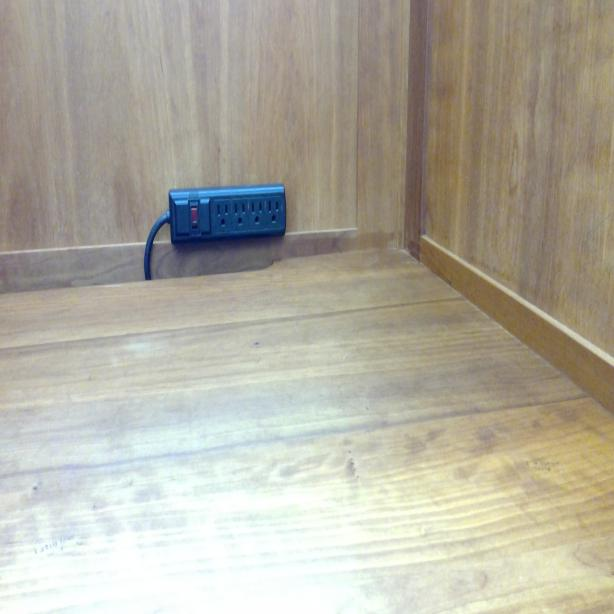typeb: (214, 200, 232, 232), (231, 200, 250, 230), (248, 198, 266, 228), (266, 197, 282, 227)
